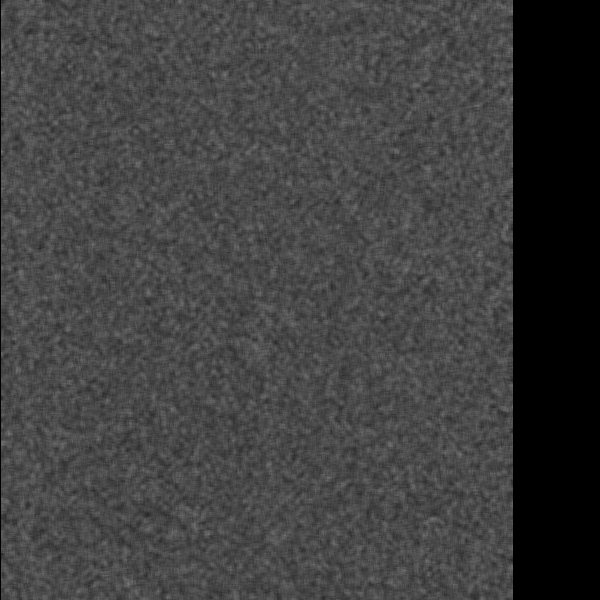spark: (410, 458, 431, 533)
